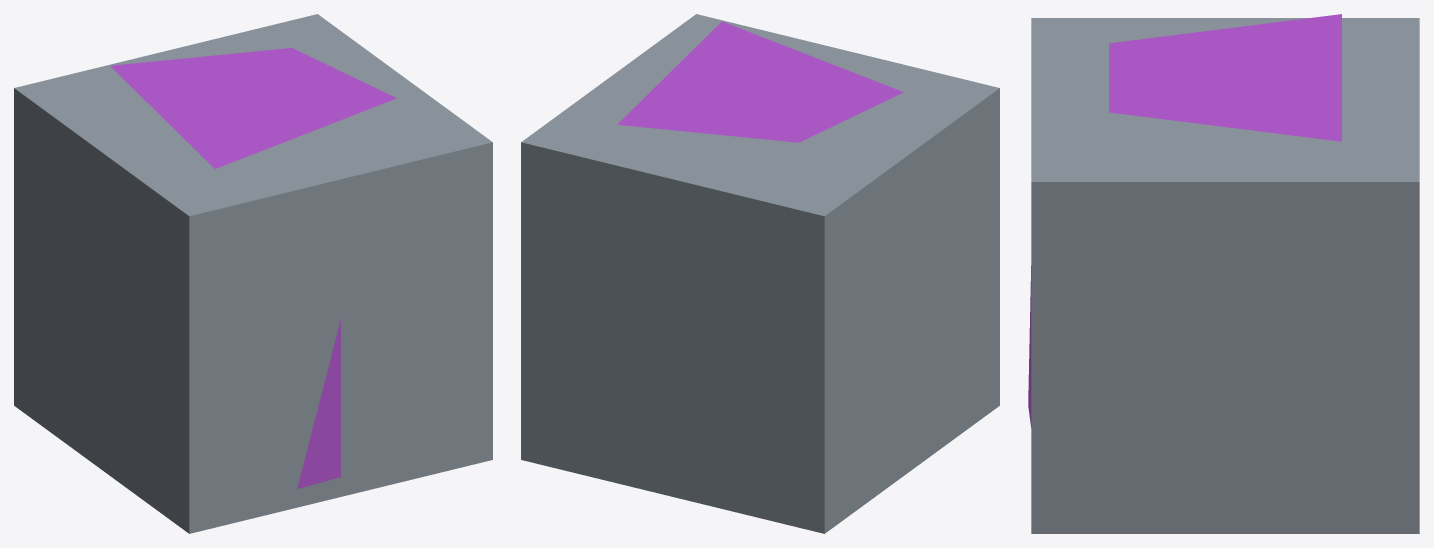
The model's file is CH_CausalityAnchor_LOD1.glb.
3 views of the same model, side by side, from view 1: azimuth 30°, elevation 25°; view 2: azimuth 150°, elevation 25°; view 3: azimuth 270°, elevation 25° (orthographic). The views are drawn at different scales.
Visible parts, largest first — view 1: EntranceGate; view 2: EntranceGate; view 3: EntranceGate.
Boxes of the visible parts, x1,y1,x2,y2 form: EntranceGate: (14,14,492,533); EntranceGate: (521,14,999,533); EntranceGate: (1028,14,1419,533).
Bounding box in the file's own units: 400 × 442 × 403.
